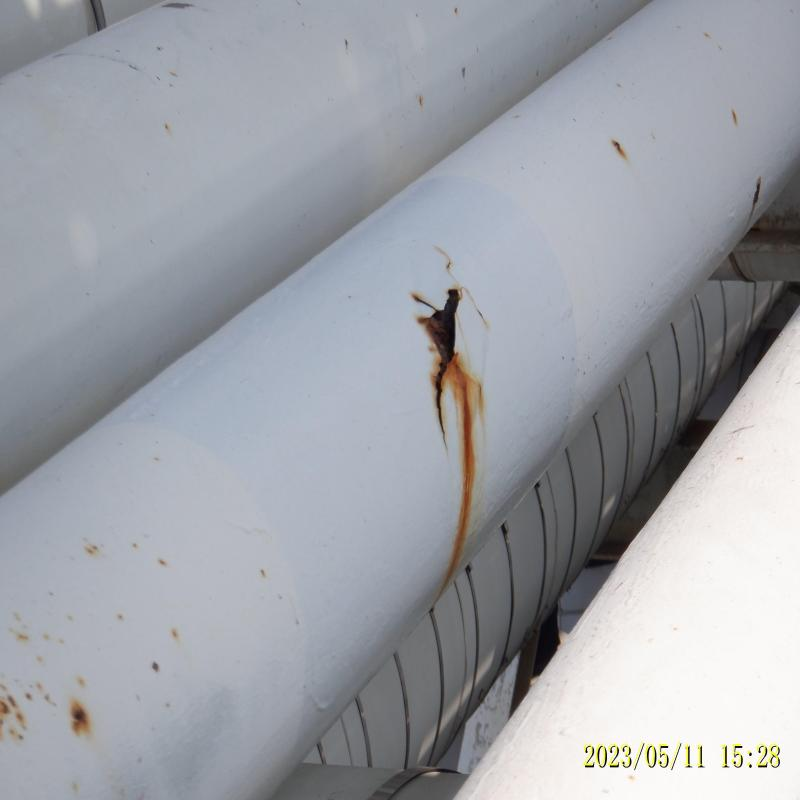corrosion: (422, 301, 462, 347), (436, 357, 451, 391)
